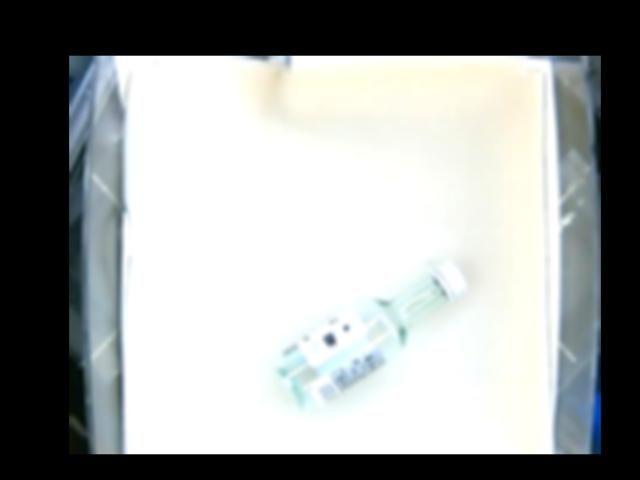Bottle: (278, 261, 466, 407)
